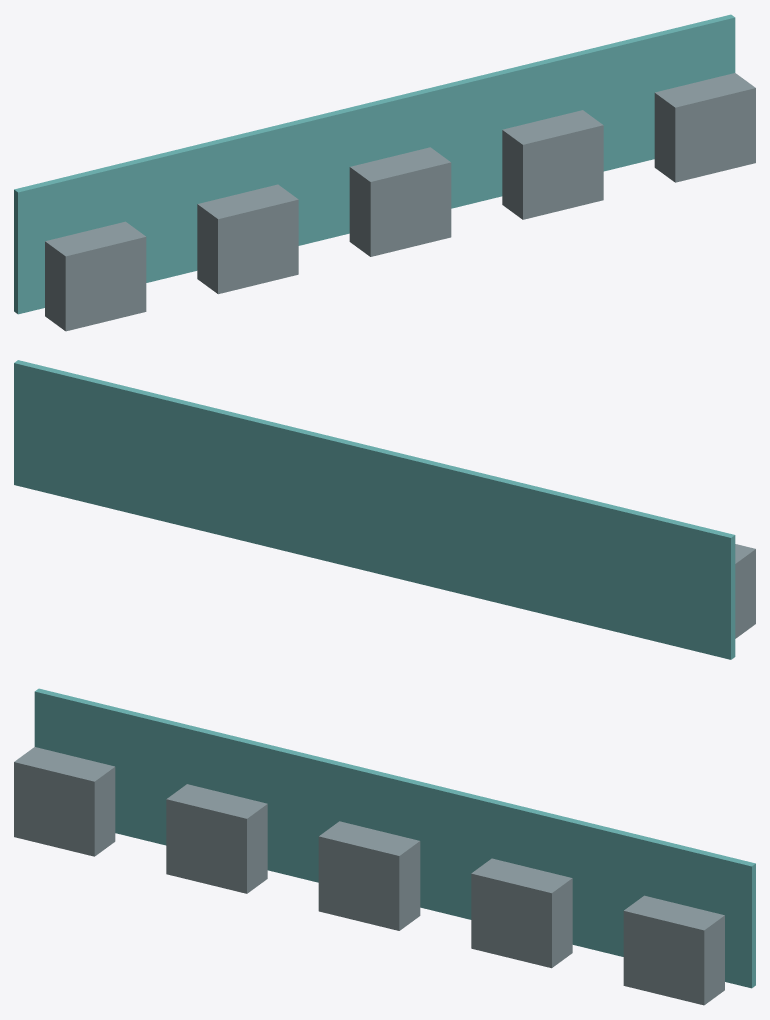
File: CircuitAnnex.glb
3 renders of one model, top to bottom at view 1: azimuth 30°, elevation 25°; view 2: azimuth 150°, elevation 25°; view 3: azimuth 330°, elevation 25°, orthographic.
Parts seen in each view (by area): view 1: CircuitAnnex_RearWall; view 2: CircuitAnnex_RearWall; view 3: CircuitAnnex_RearWall.
Part boxes in pixels (x1=…): CircuitAnnex_RearWall: x1=14, y1=14, x2=755, y2=331; CircuitAnnex_RearWall: x1=14, y1=360, x2=755, y2=659; CircuitAnnex_RearWall: x1=14, y1=688, x2=755, y2=1005.
Bounding box in the file's own units: 80 × 13 × 7.4.
